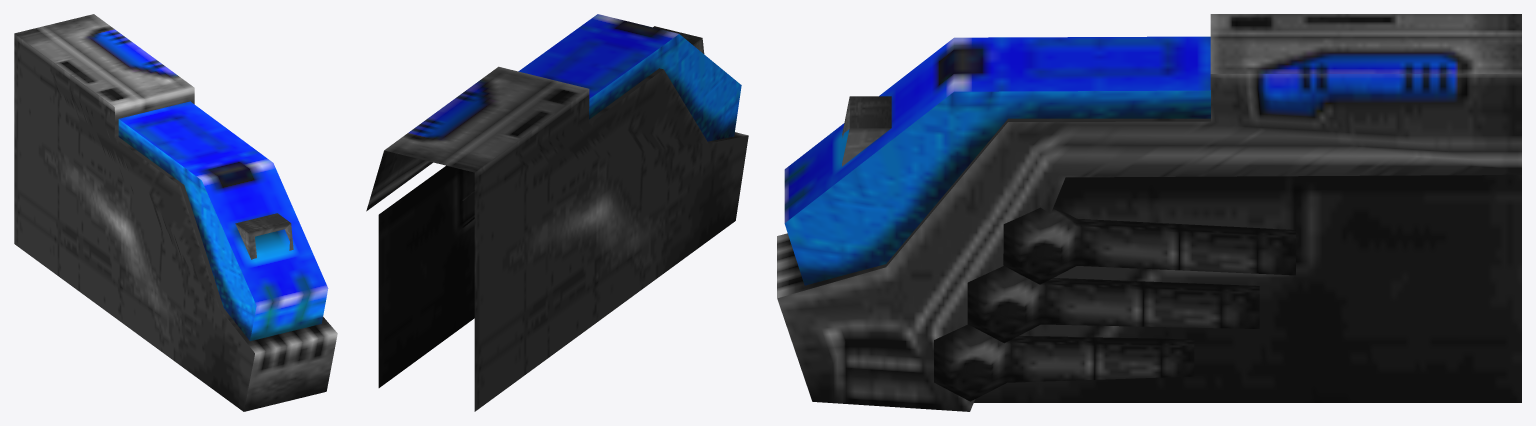
File: datan_common_B0008_e0784fb0.obj
3 views of the same model, side by side, from view 1: azimuth 30°, elevation 25°; view 2: azimuth 150°, elevation 25°; view 3: azimuth 270°, elevation 25° (orthographic). The views are drawn at different scales.
Parts seen in each view (by area): view 1: datan_common_B0008_e0784fb0; view 2: datan_common_B0008_e0784fb0; view 3: datan_common_B0008_e0784fb0.
Part boxes in pixels (box(x1,y1,x2,y2)): datan_common_B0008_e0784fb0: box(14, 14, 337, 411); datan_common_B0008_e0784fb0: box(366, 14, 748, 411); datan_common_B0008_e0784fb0: box(777, 14, 1521, 411).
Size of the model in its own units: 1.35 by 2.5 by 5.18.
1 material, 1 textured.
